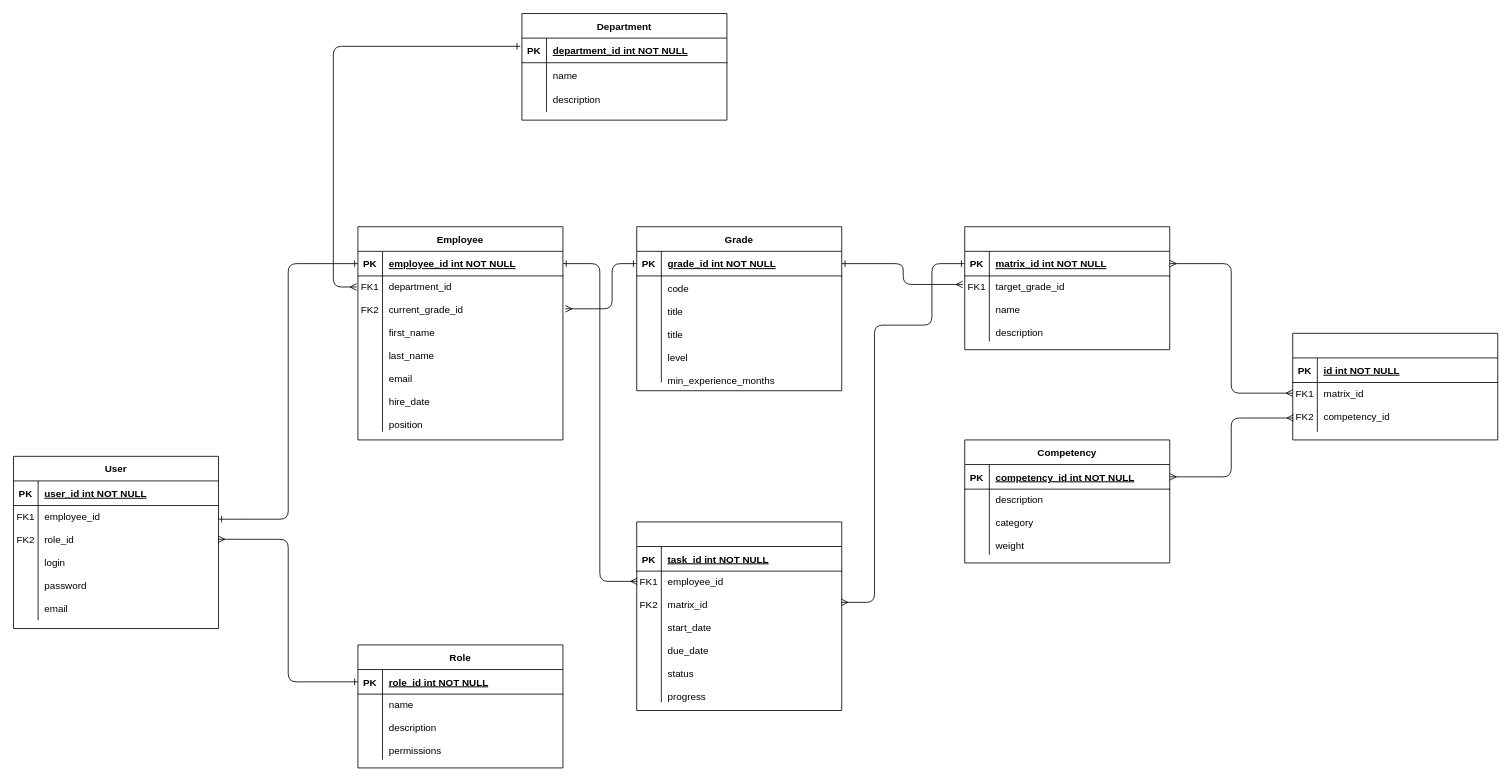
The diagram is 1511 pixels wide and 781 high, and some of its shapes have lost their labels. The shapes that lost their labels are listed below. From the top down, each one's box as (x1, y1, x2, y2) in pixels, then its label:
(964, 226, 1170, 350): CompetencyMatrix
(1292, 333, 1498, 440): MatrixCompetency
(636, 521, 842, 711): GradingTask
